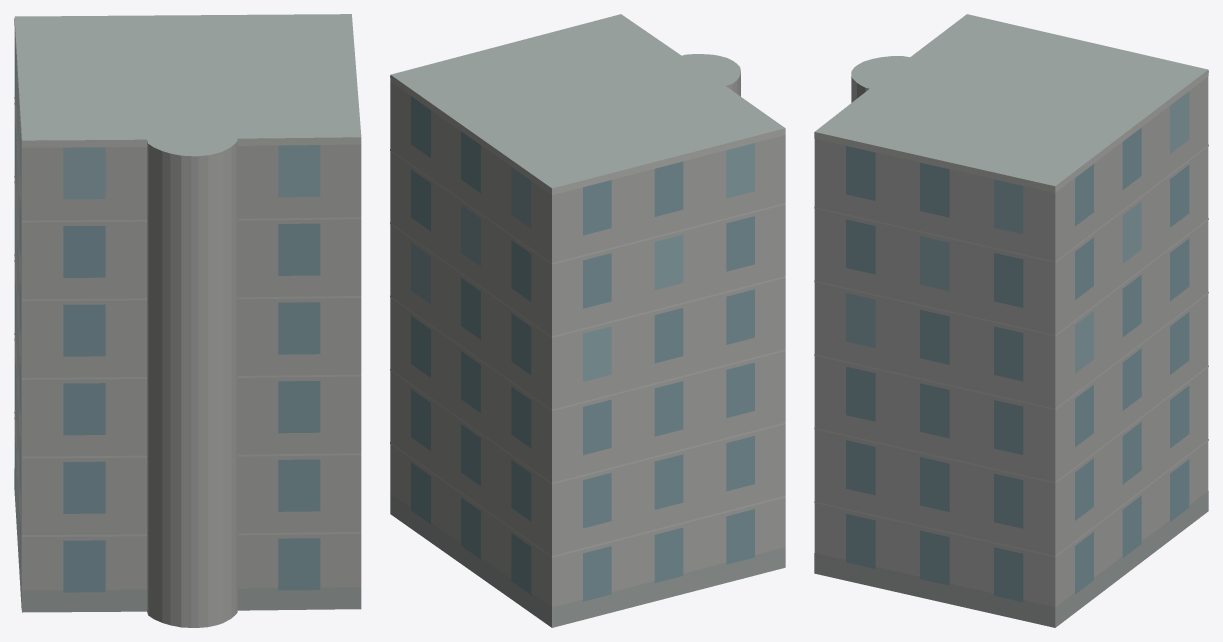
Rendered from survey-upis-32811954.glb.
The picture shows the model from 3 angles, left to right: view 1: azimuth 30°, elevation 25°; view 2: azimuth 150°, elevation 25°; view 3: azimuth 270°, elevation 25°; orthographic projection. The views are drawn at different scales.
Parts seen in each view (by area): view 1: survey-upis-32811954.tmp; view 2: survey-upis-32811954.tmp; view 3: survey-upis-32811954.tmp.
Part boxes in pixels (x1,y1,x2,y2): survey-upis-32811954.tmp: (14,14,361,627); survey-upis-32811954.tmp: (390,14,785,627); survey-upis-32811954.tmp: (814,14,1208,627).
Size of the model in its own units: 13.24 by 15.8 by 12.8.
